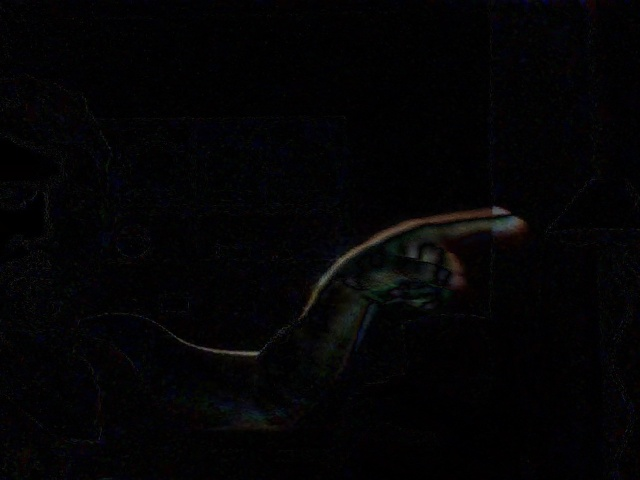hand_po: (333, 196, 537, 317)
